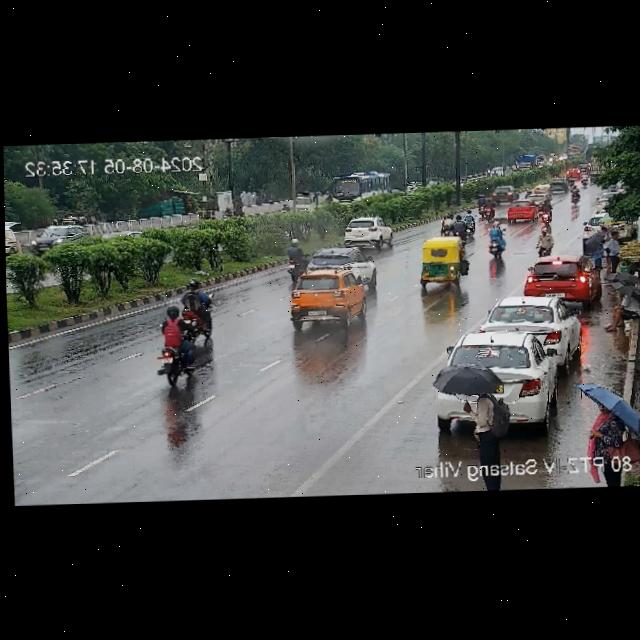bus: (330, 170, 391, 204)
car: (436, 331, 561, 400), (288, 265, 380, 331), (484, 294, 579, 354), (523, 253, 602, 303), (412, 234, 469, 285), (303, 249, 375, 281), (29, 222, 91, 252), (338, 216, 394, 248), (505, 199, 538, 223), (489, 185, 516, 202), (533, 182, 554, 196), (529, 192, 546, 207), (552, 178, 569, 192), (565, 166, 580, 176), (490, 166, 503, 176)
motorcycle: (149, 296, 214, 386), (174, 277, 224, 339), (484, 224, 511, 260), (283, 238, 305, 277), (533, 228, 554, 256), (464, 208, 477, 235), (541, 199, 554, 225), (439, 210, 456, 225), (475, 192, 484, 217), (485, 195, 494, 217), (453, 214, 462, 234), (570, 184, 579, 204), (440, 225, 451, 236), (223, 207, 233, 218), (580, 172, 587, 186), (523, 189, 532, 199), (567, 173, 573, 186), (489, 170, 498, 175)
person: (440, 366, 507, 438), (584, 392, 640, 458), (600, 284, 640, 334), (604, 225, 622, 273), (591, 236, 606, 271)
truck: (297, 191, 324, 210), (515, 154, 535, 170), (566, 143, 581, 155)
